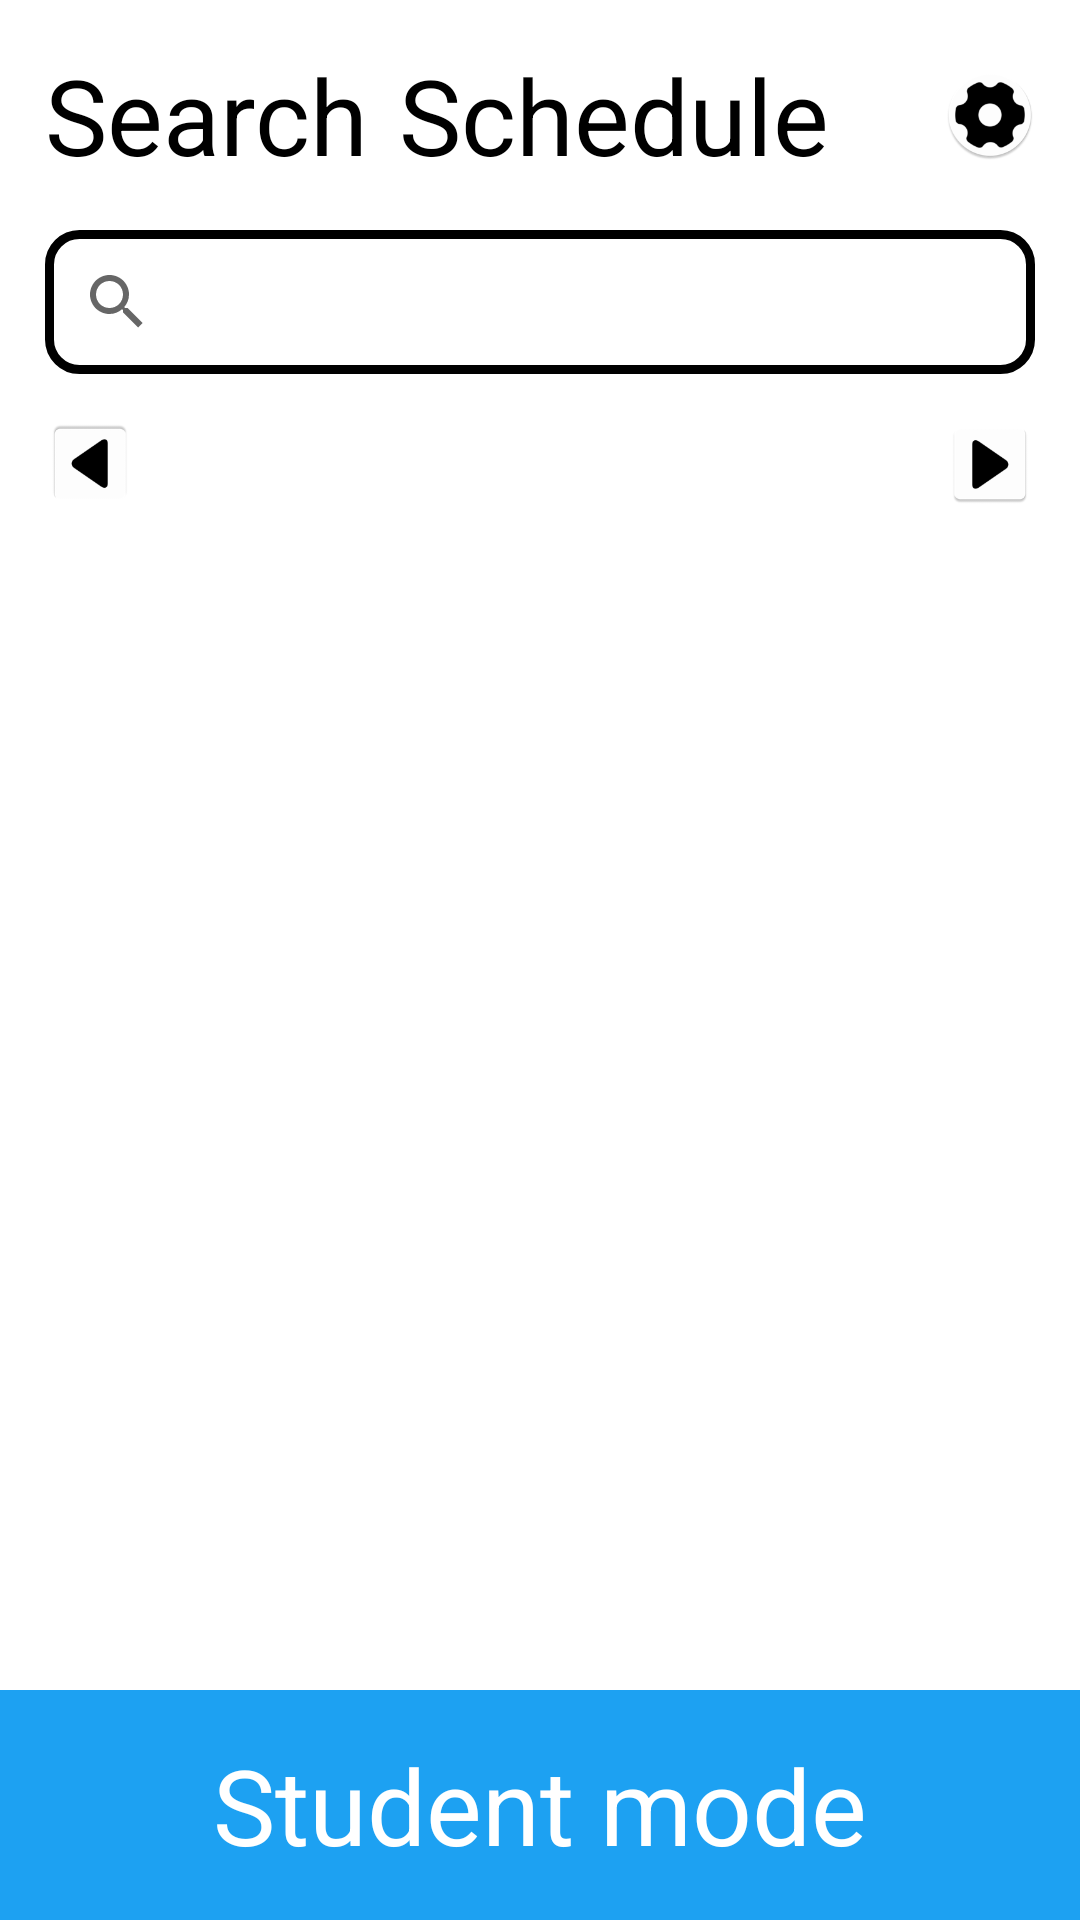

Icons on this 1080 x 1920 Android screen, each with the point to tap as [x,y]:
settings round: [991,120]
